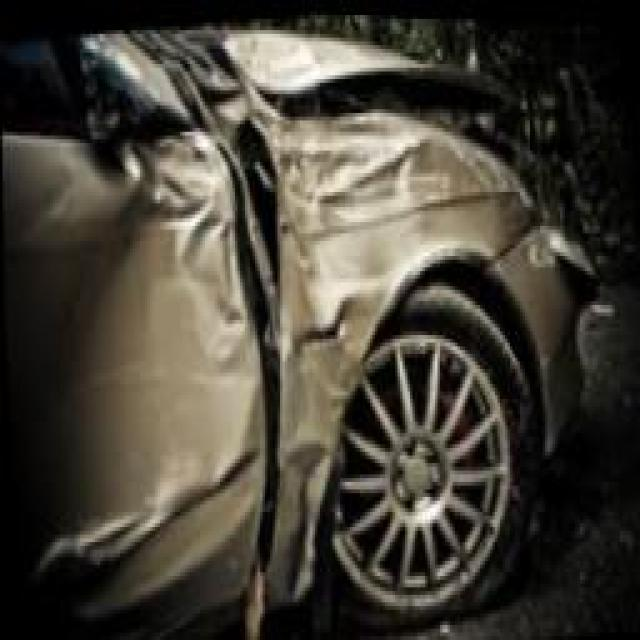Bonnet: (177, 26, 538, 203)
Door: (2, 125, 270, 640)
Fender: (253, 113, 515, 591)
